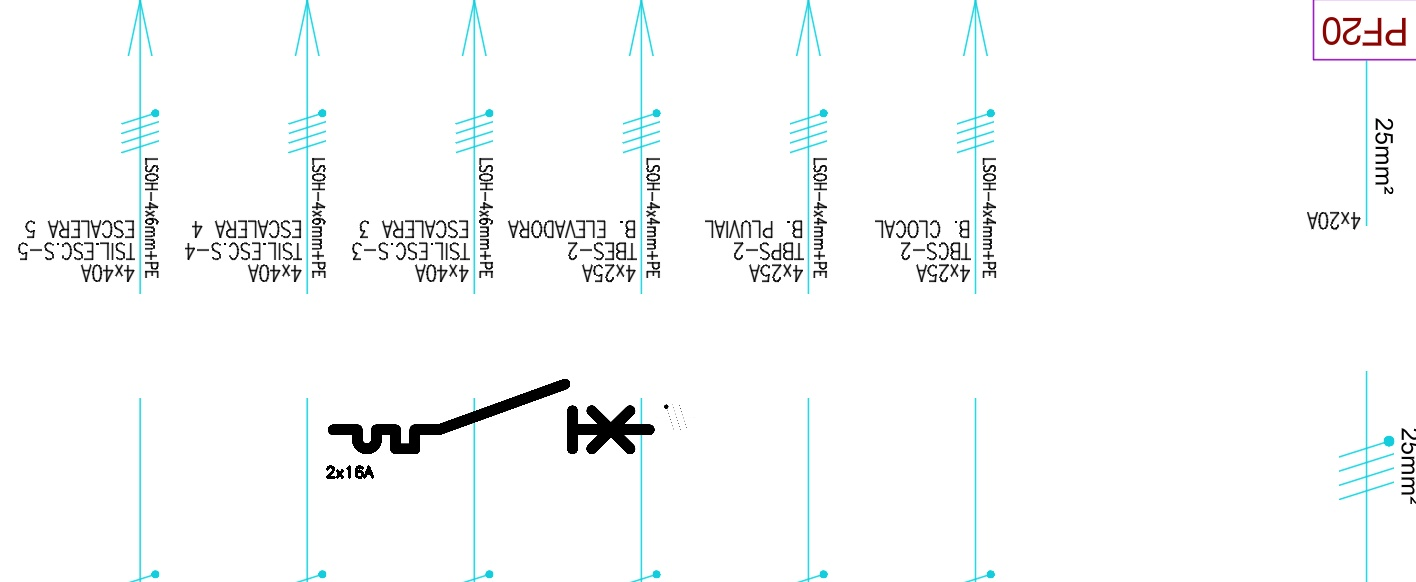interruptor_termomagnetico: (325, 376, 657, 457)
